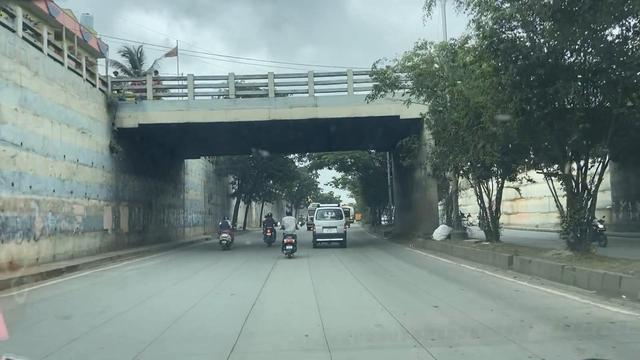LMV: (308, 199, 349, 251), (273, 209, 302, 257), (259, 213, 278, 247), (219, 215, 234, 244)
